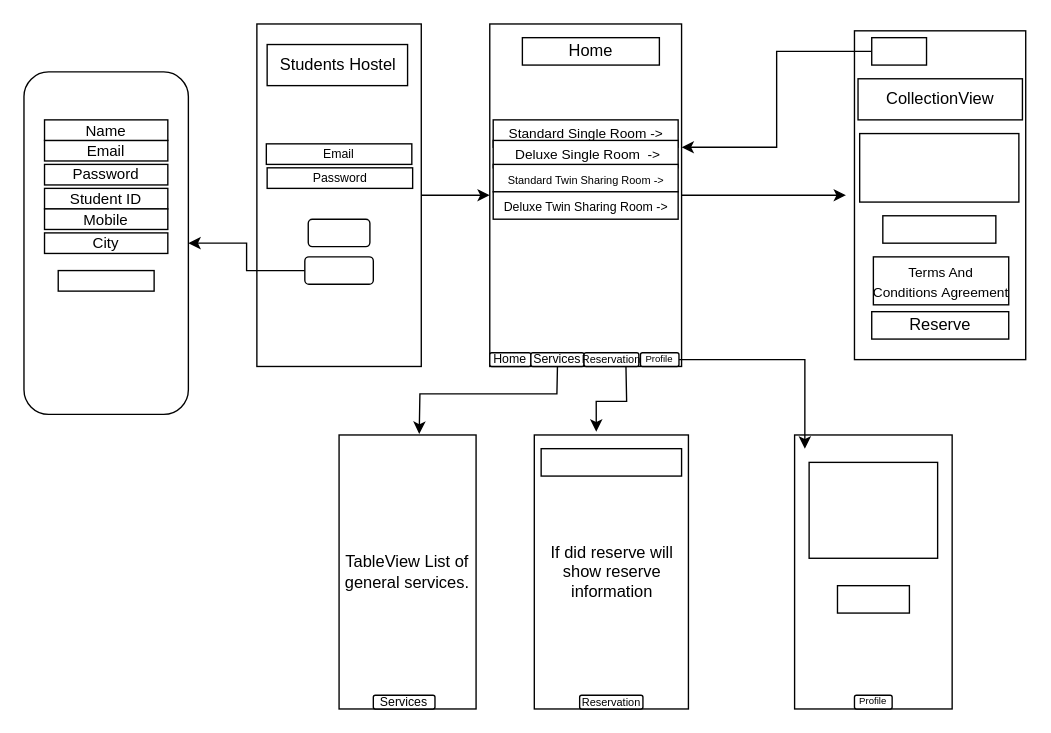
Image size: 1051x733. Some labels were removed from this diagram. Each missing label, with the centre of its shape:
"<Home" goes at pixel 898 50.
"Create Account" goes at pixel 105 280.
"Log out" goes at pixel 872 598.
"Login" goes at pixel 338 232.
"No reservation yet" goes at pixel 611 461.
"Register" goes at pixel 338 270.
"Room Description" goes at pixel 938 167.
"Room Price" goes at pixel 938 228.
"Student Name: Student ID: City: Mobile: Student Email:" goes at pixel 873 509.
